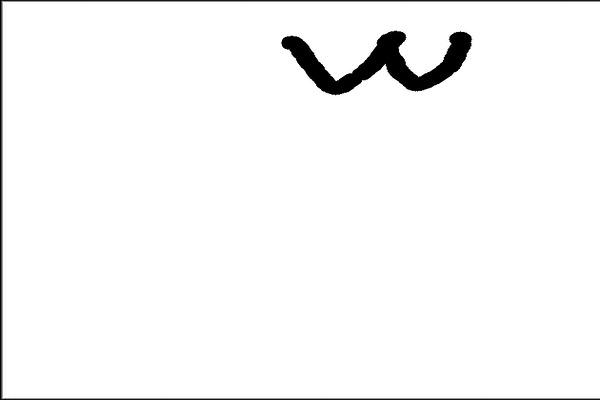w: (264, 13, 487, 116)
